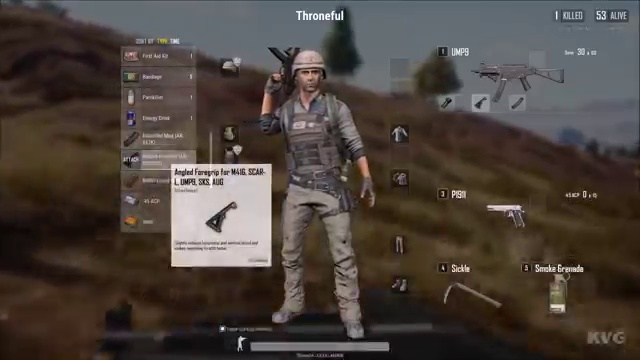Player: (264, 49, 377, 316)
